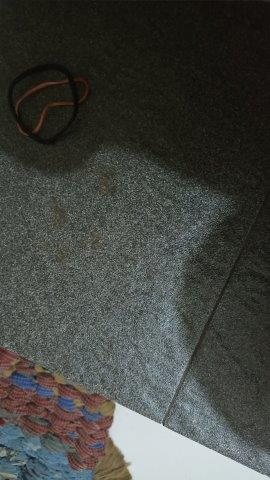karet: (8, 64, 90, 145)
